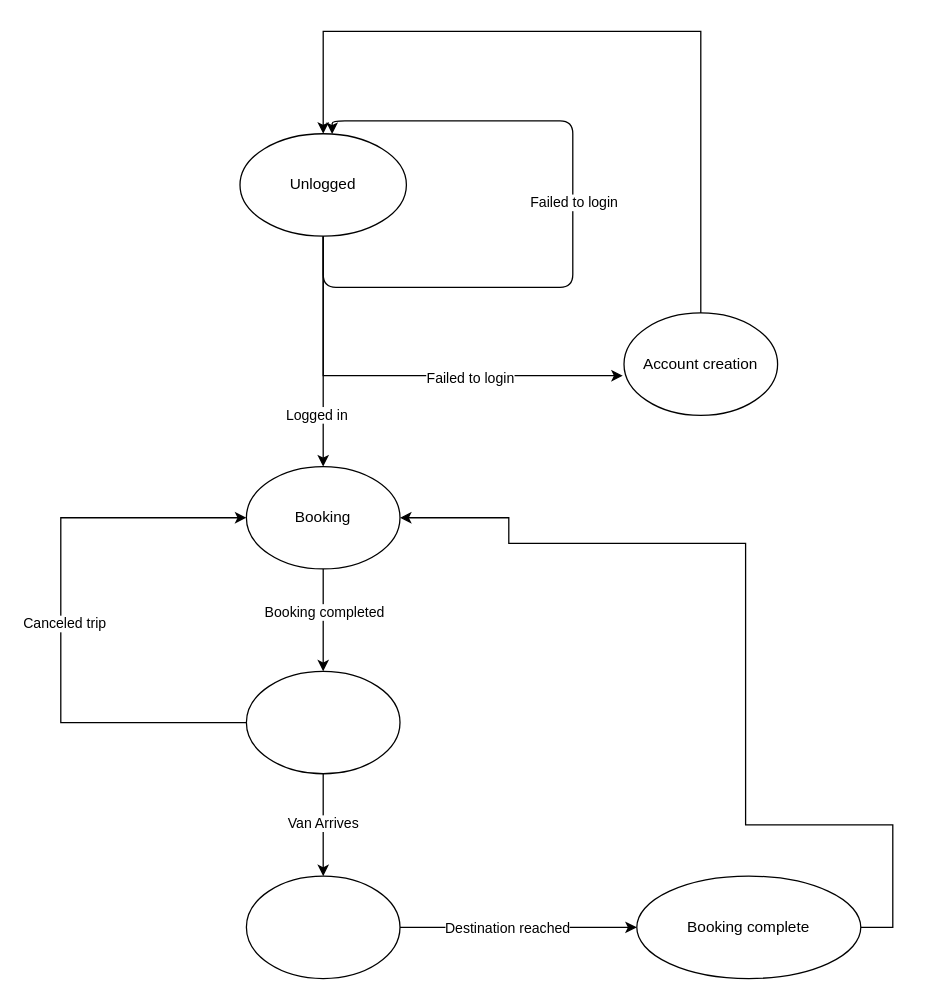
Some shapes in this 925 by 1001 pixel diagram are drawn without their labels. The centre of each missing label's shape, as x and y in pixels:
"traveling" belongs at point 322,927.
"Waiting" belongs at point 322,722.
